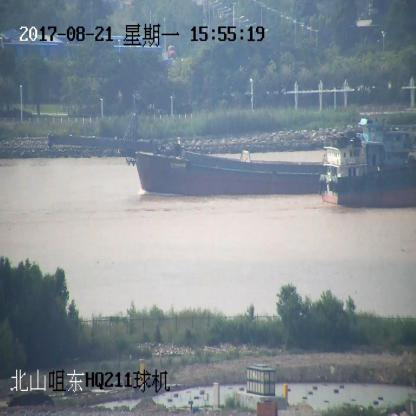Bulk Carrier: (47, 99, 412, 193), (319, 134, 416, 208)
